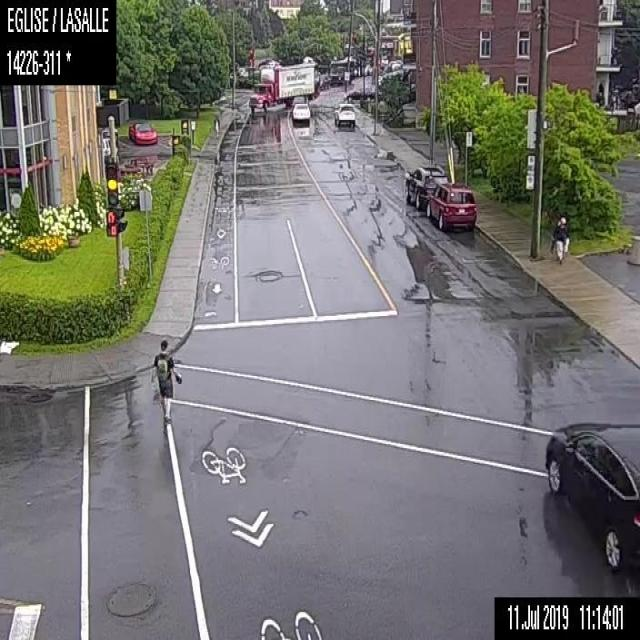pedestrian: (149, 337, 182, 427), (550, 213, 570, 264), (213, 114, 219, 138)
vehicle: (543, 418, 639, 574), (246, 60, 320, 114), (423, 180, 478, 233), (402, 163, 448, 209), (126, 119, 158, 145), (332, 100, 356, 127), (292, 104, 310, 123)
